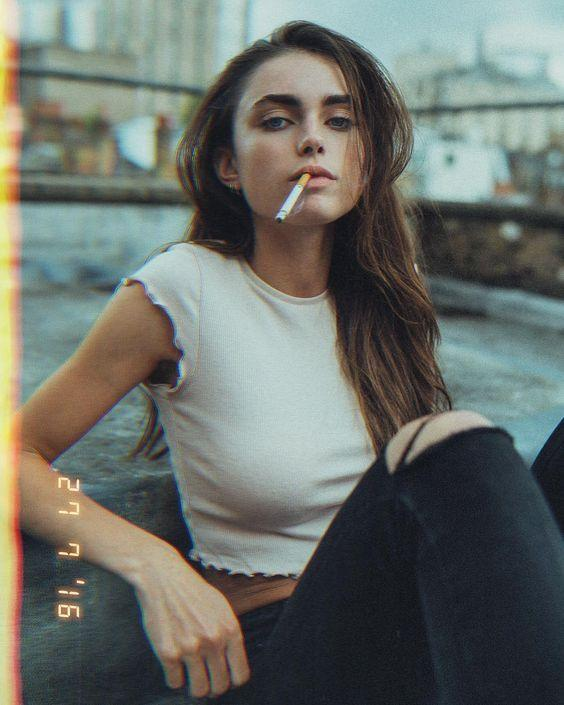cigarette: (275, 172, 313, 223)
